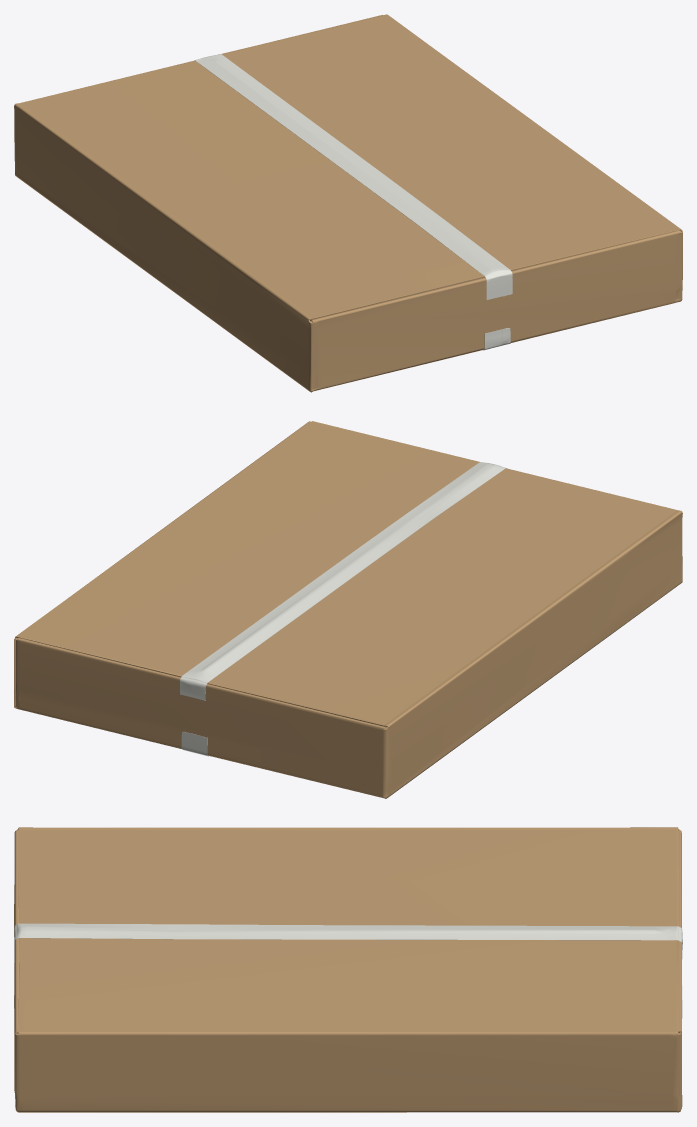
The model's file is box_flat_white_b14.glb.
The picture shows the model from 3 angles, top to bottom: view 1: azimuth 30°, elevation 25°; view 2: azimuth 150°, elevation 25°; view 3: azimuth 270°, elevation 25°; orthographic projection. The views are drawn at different scales.
Bounding box in the file's own units: 0.4366 × 0.0845 × 0.602.
